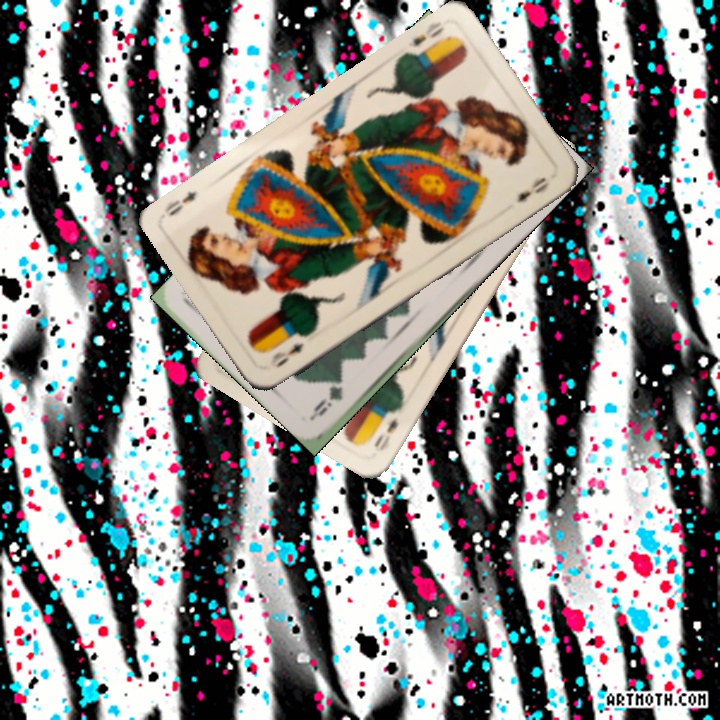EO: (404, 17, 448, 50), (266, 339, 307, 371), (370, 413, 401, 455)
G9: (310, 382, 346, 419)
